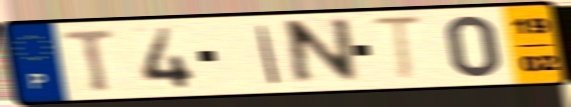0: (443, 13, 504, 80)
4: (138, 25, 198, 91)
I: (254, 23, 284, 86)
N: (287, 15, 362, 89)
T: (368, 14, 428, 85), (60, 26, 119, 94)
